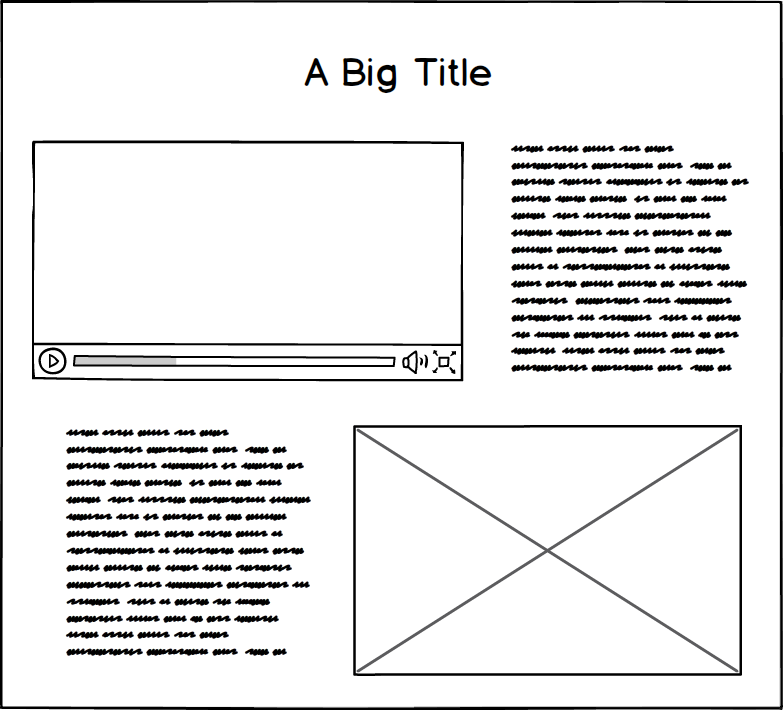h1: (294, 47, 510, 97)
image: (345, 418, 751, 682)
p: (55, 421, 315, 662), (503, 138, 754, 377)
video: (28, 136, 468, 385)
